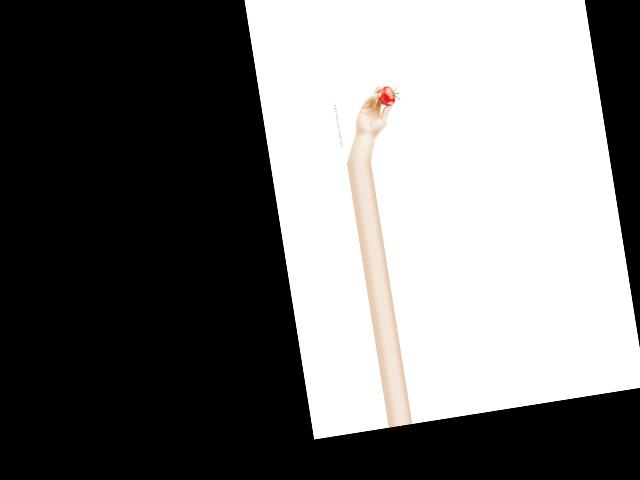tomato: (376, 85, 396, 107)
